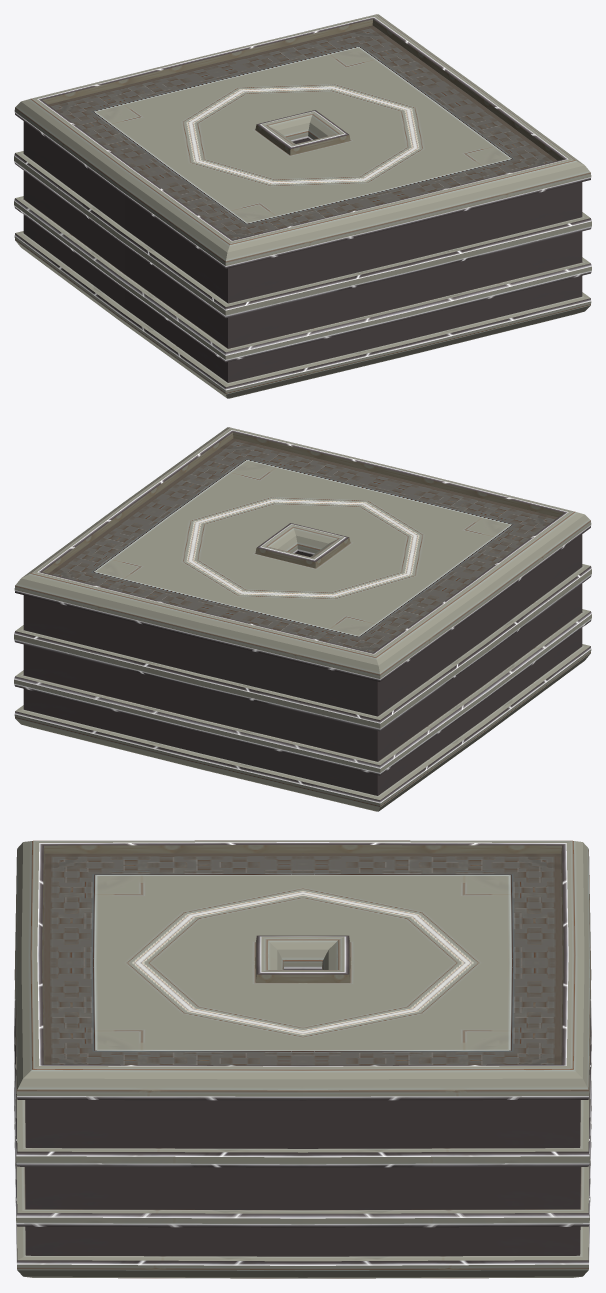
The model's file is KF_SM_XBuilding014.fbx.
The picture shows the model from 3 angles, top to bottom: view 1: azimuth 30°, elevation 25°; view 2: azimuth 150°, elevation 25°; view 3: azimuth 270°, elevation 25°; orthographic projection. The views are drawn at different scales.
Parts seen in each view (by area): view 1: KF_SM_XBuilding014; view 2: KF_SM_XBuilding014; view 3: KF_SM_XBuilding014.
Boxes of the visible parts, left/top/right/bottom form: KF_SM_XBuilding014: left=14, top=14, right=591, bottom=398; KF_SM_XBuilding014: left=14, top=427, right=591, bottom=811; KF_SM_XBuilding014: left=14, top=840, right=591, bottom=1278.
Bounding box in the file's own units: 9559 × 3839 × 9559.
